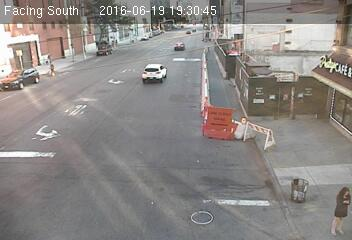neg: (311, 50, 341, 90), (279, 89, 302, 119), (6, 36, 24, 61)
pos: (321, 180, 351, 235)
